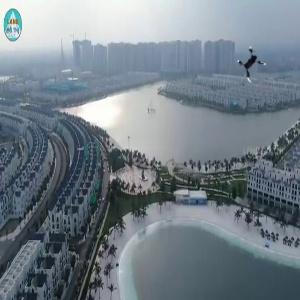drone: (233, 43, 277, 87)
